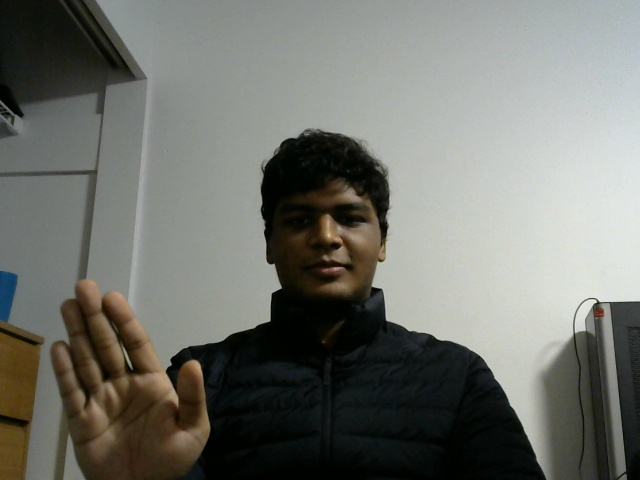Hi: (46, 276, 237, 480)
